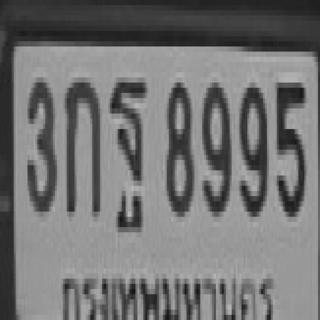A01: (63, 72, 98, 212)
A16: (108, 72, 145, 212)
N03: (26, 72, 55, 212)
N05: (275, 77, 304, 212)
N08: (165, 77, 192, 212)
N09: (200, 77, 230, 212), (238, 77, 265, 212)
